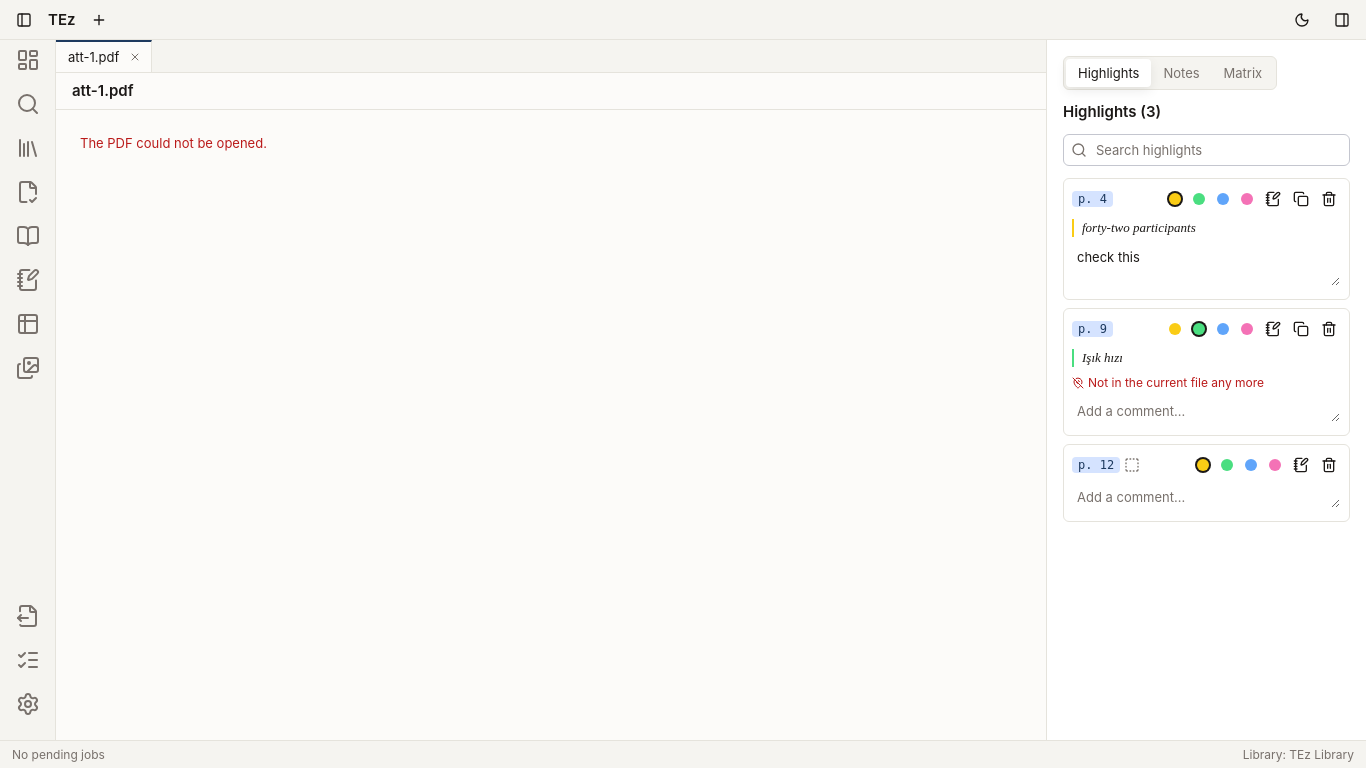
from a highlight to a note › offers notes about the paper first, and adds the quote with its chip
The width and height of the screenshot is (1366, 768).
Click the button named "Quote in a note" next to "p. 4" at (1273, 199), box [1261,187,1285,211]
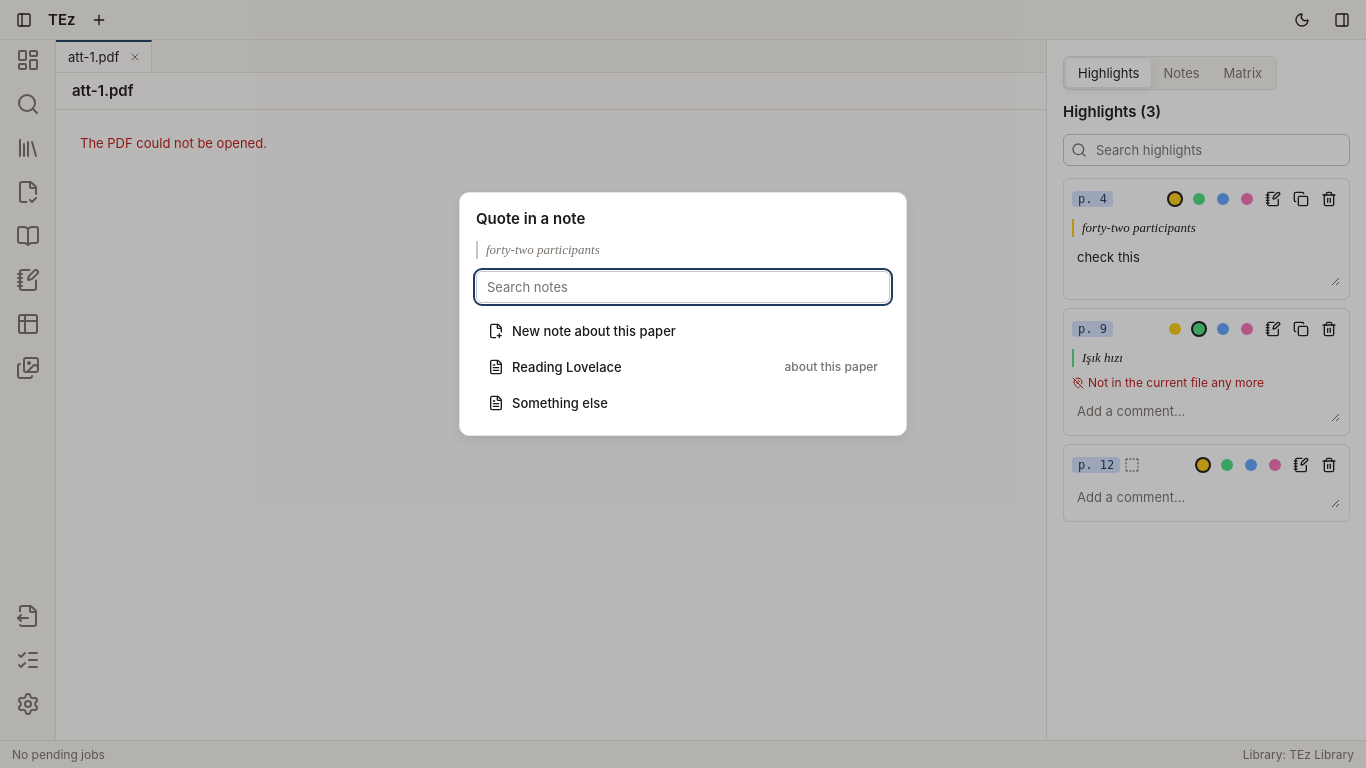
Expected: the text "about this paper" is shown, [784,359,878,375]
Expected: the buttons read "New note about this paper", "Reading Lovelaceabout this paper", "Something else", in this order
Click the button "Reading Lovelace about this paper" at (567, 367), box [476,351,890,383]
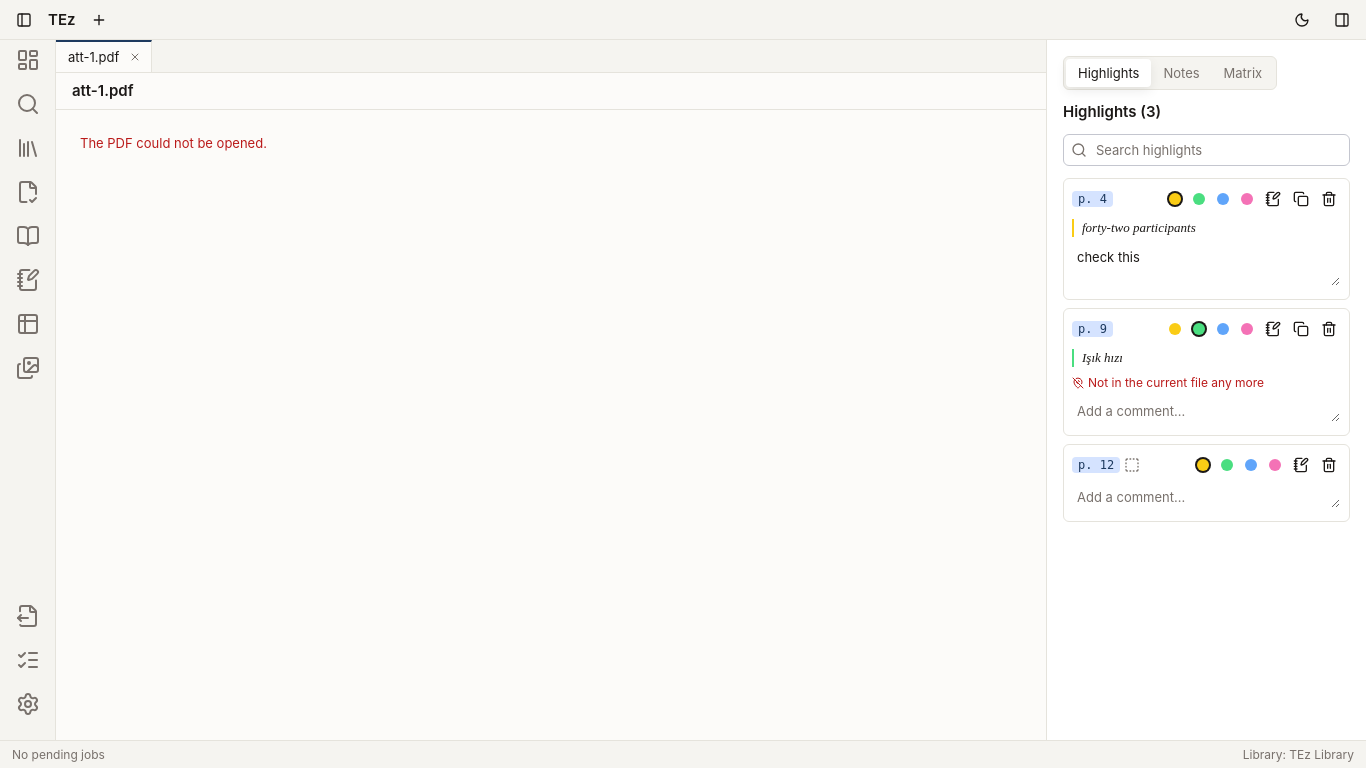
Expected: the dialog is gone
